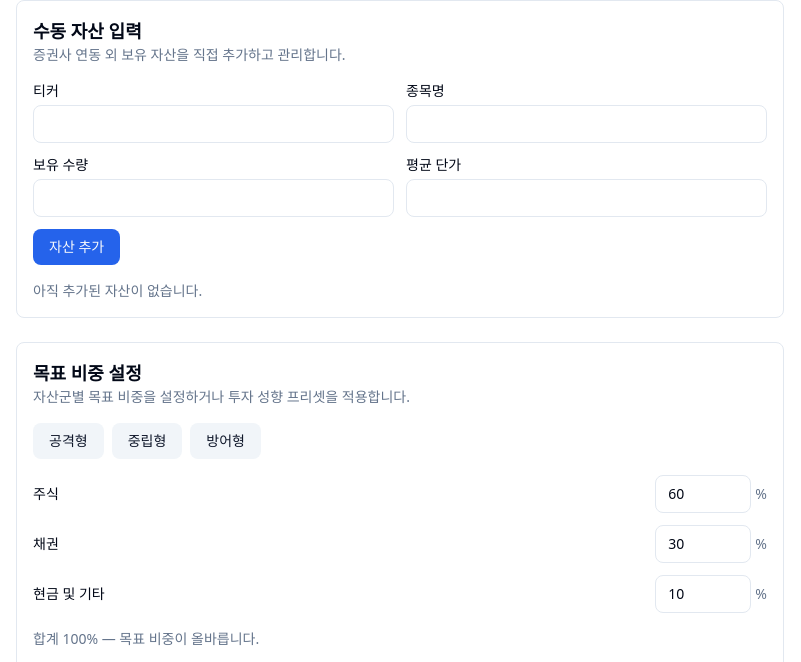
Test case: SettingsPortfolioPanel — 수동 자산 › 필수값 누락 시 오류를 표시하고 추가하지 않는다
The image size is (801, 662).
Expected: the number field named "주식 목표 비중" is shown, [655, 475, 751, 513]
Expected: the field labelled "티커" is shown, [33, 105, 394, 143]
Click the button "자산 추가".
click(77, 247)  # box [33, 229, 120, 265]
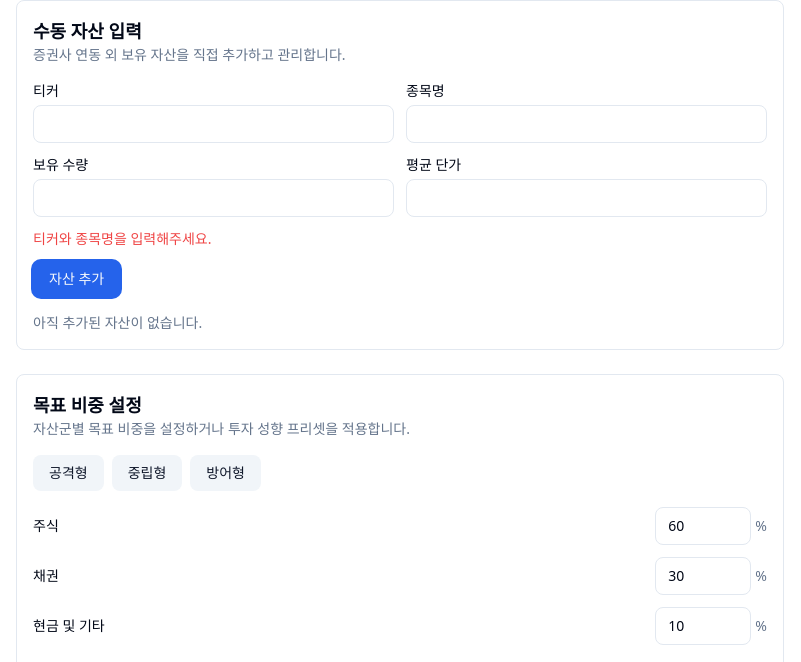
Now the text "티커와 종목명을 입력해주세요." is shown, box [33, 229, 212, 248]
